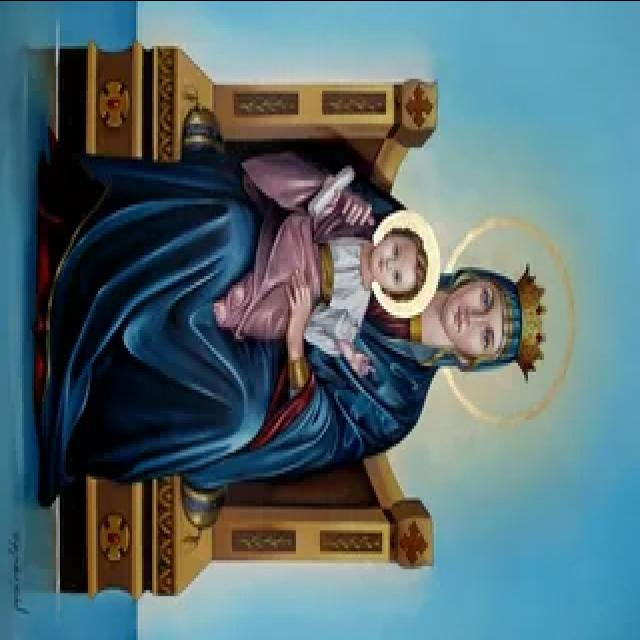mother of god: (42, 109, 542, 532)
